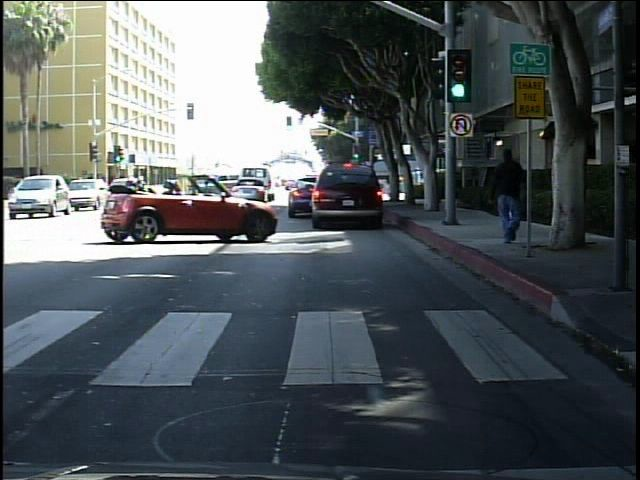person: (490, 137, 531, 244), (500, 148, 526, 229)
